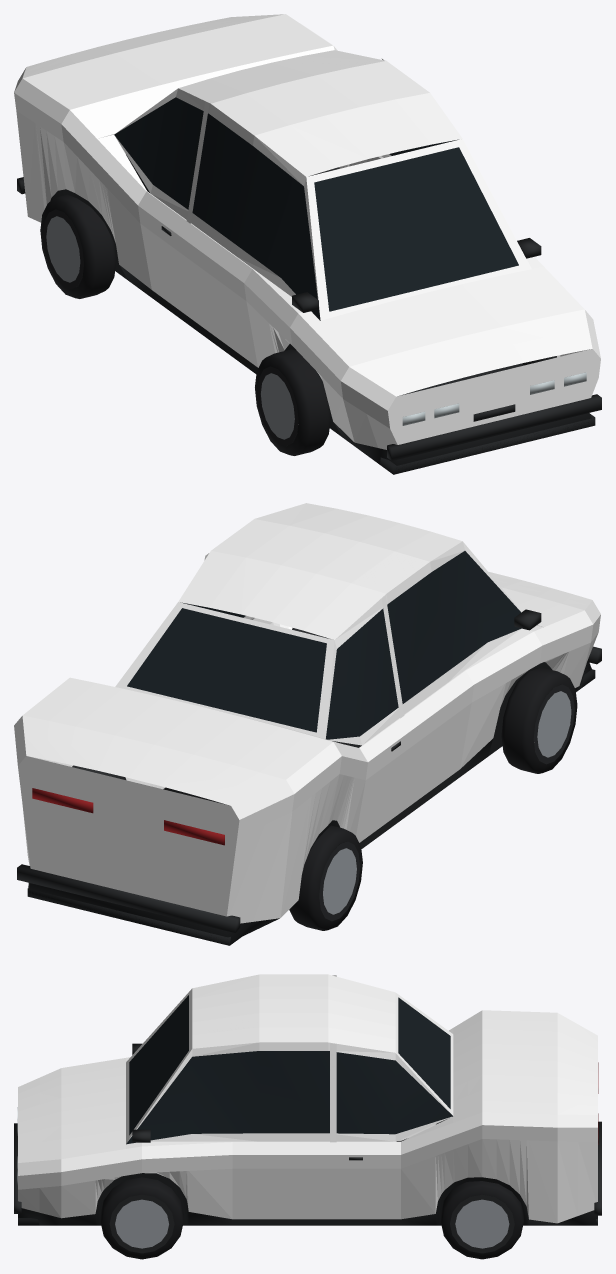
Rendered from varenna_verso.glb.
The picture shows the model from 3 angles, top to bottom: view 1: azimuth 30°, elevation 25°; view 2: azimuth 150°, elevation 25°; view 3: azimuth 270°, elevation 25°; orthographic projection. The views are drawn at different scales.
Parts seen in each view (by area): view 1: Body_Paint, Body_Details, Mount_FrontLeft_Wheel_Details, Mount_RearLeft_Wheel_Details; view 2: Body_Paint, Body_Details, Mount_FrontLeft_Wheel_Details, Mount_RearLeft_Wheel_Details; view 3: Body_Paint, Body_Details, Mount_FrontRight_Wheel_Details, Mount_RearRight_Wheel_Details.
Part boxes in pixels (<box>): Body_Paint: <box>14,14,600,449</box>; Body_Details: <box>17,97,601,474</box>; Mount_FrontLeft_Wheel_Details: <box>255,349,330,455</box>; Mount_RearLeft_Wheel_Details: <box>40,194,116,298</box>; Body_Paint: <box>14,503,600,923</box>; Body_Details: <box>17,551,601,945</box>; Mount_FrontLeft_Wheel_Details: <box>501,667,577,773</box>; Mount_RearLeft_Wheel_Details: <box>289,825,362,930</box>; Body_Paint: <box>18,974,597,1223</box>; Body_Details: <box>14,995,601,1225</box>; Mount_FrontRight_Wheel_Details: <box>100,1177,183,1259</box>; Mount_RearRight_Wheel_Details: <box>440,1181,523,1259</box>.
Size of the model in its own units: 1.82 by 1.58 by 4.16.
2 materials, 1 textured.
